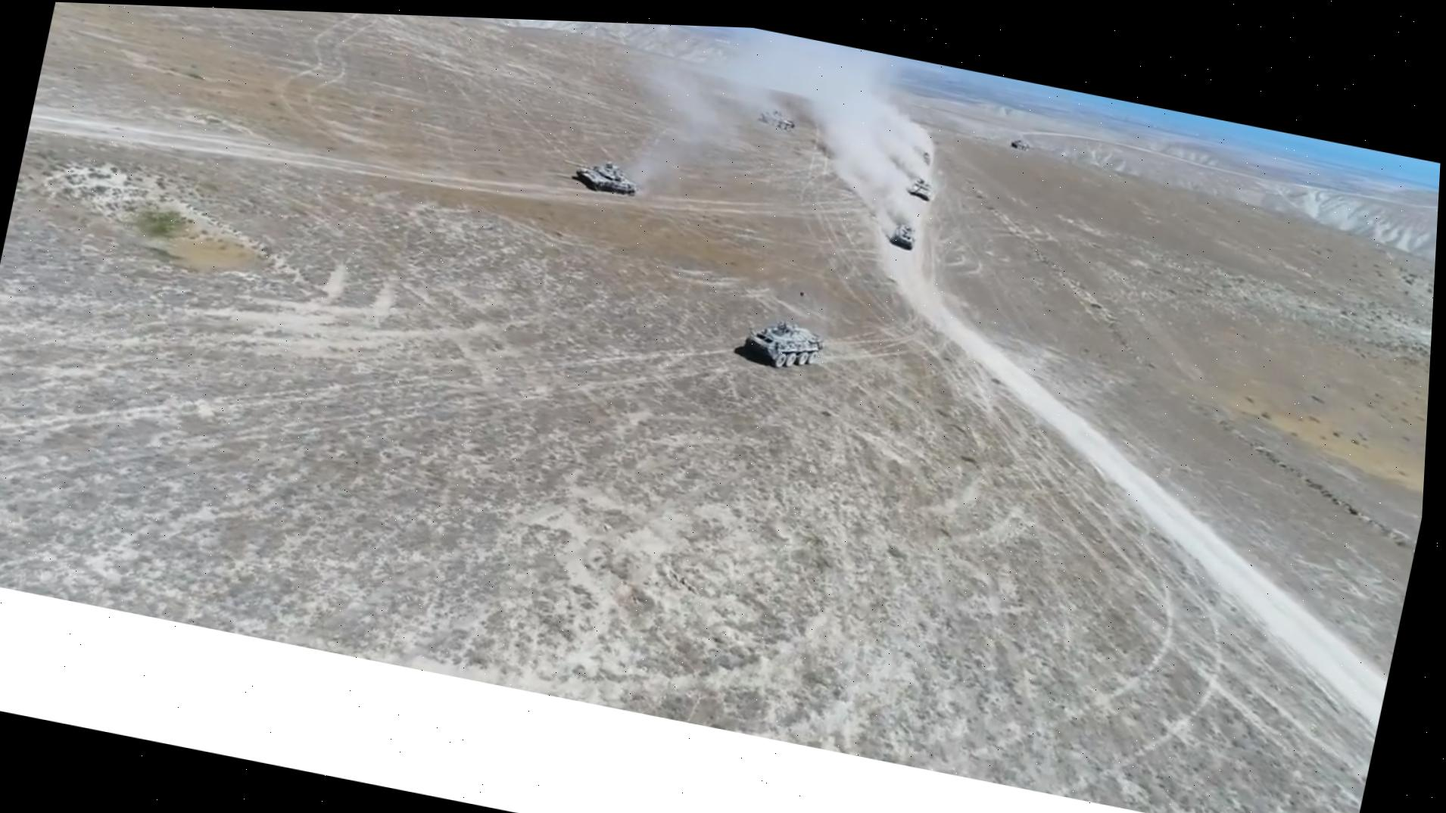armored_car: (733, 310, 826, 378), (885, 218, 927, 253)
tank: (552, 150, 644, 204)
